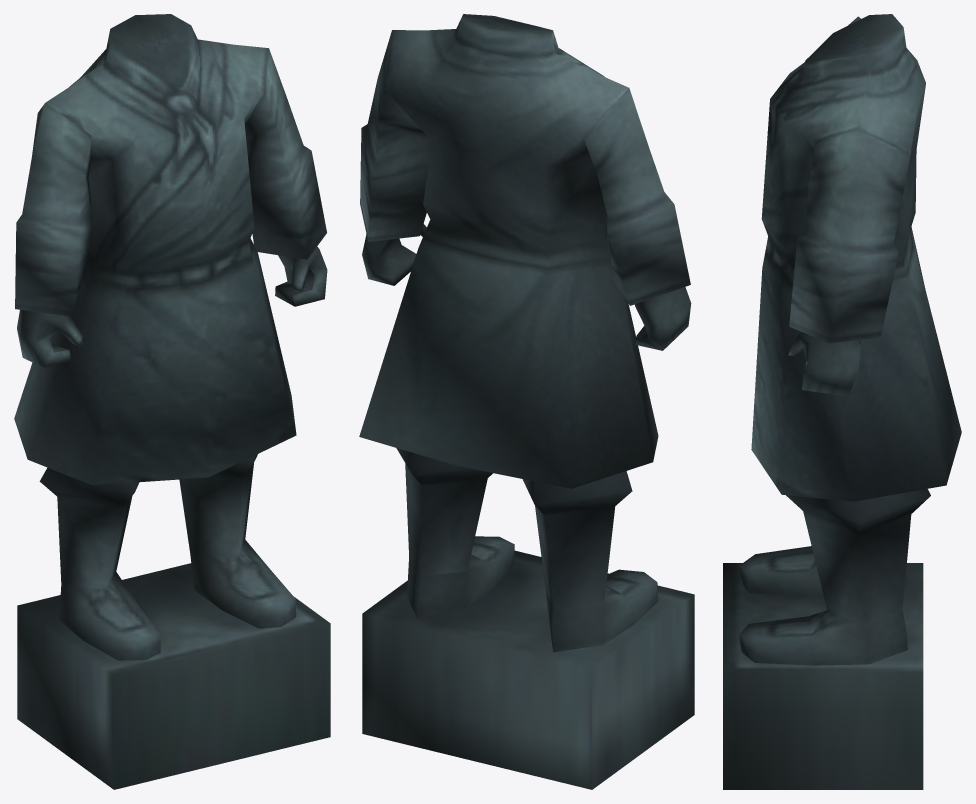
Rendered from Stage_DiXiaCheng_BinMaYong_10.FBX.
3 renders of one model, left to right at view 1: azimuth 30°, elevation 25°; view 2: azimuth 150°, elevation 25°; view 3: azimuth 270°, elevation 25°, orthographic. The views are drawn at different scales.
Parts seen in each view (by area): view 1: Stage_DiXiaCheng_BinMaYong_10; view 2: Stage_DiXiaCheng_BinMaYong_10; view 3: Stage_DiXiaCheng_BinMaYong_10.
Boxes of the visible parts, x1,y1,x2,y2 form: Stage_DiXiaCheng_BinMaYong_10: [14, 14, 330, 789]; Stage_DiXiaCheng_BinMaYong_10: [359, 14, 694, 789]; Stage_DiXiaCheng_BinMaYong_10: [723, 14, 961, 789].
Bounding box in the file's own units: 86.78 × 182 × 55.54.
